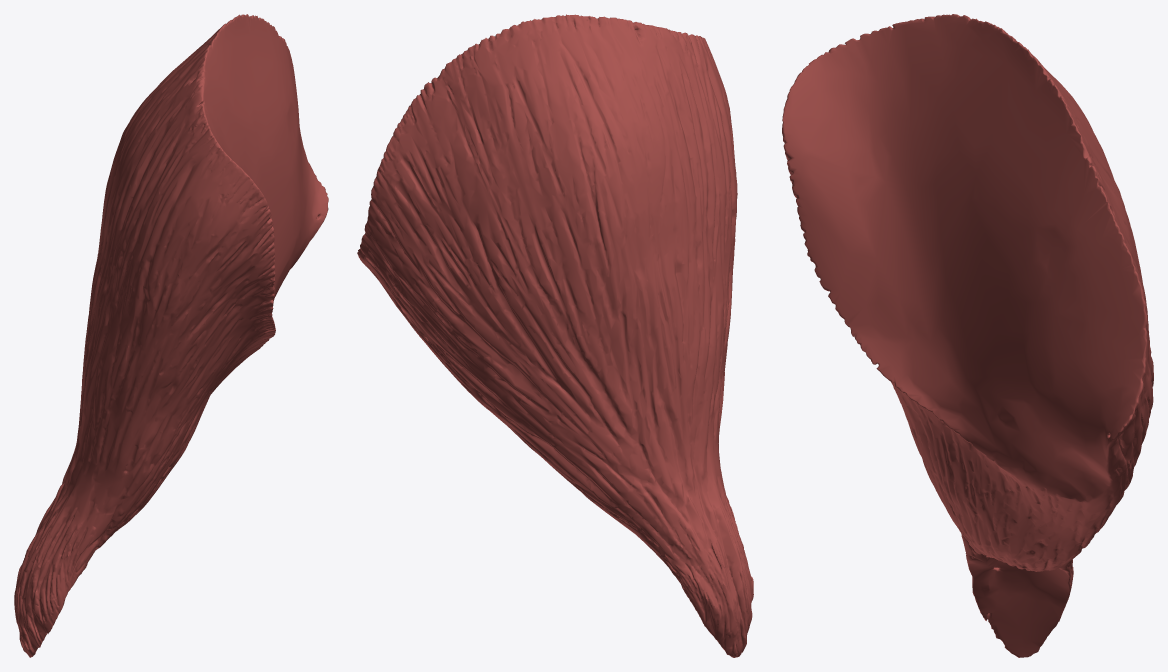
File: FMA22332.glb
3 views of the same model, side by side, from view 1: azimuth 30°, elevation 25°; view 2: azimuth 150°, elevation 25°; view 3: azimuth 270°, elevation 25° (orthographic). The views are drawn at different scales.
Visible parts, largest first — view 1: FMA22332; view 2: FMA22332; view 3: FMA22332.
Boxes of the visible parts, box(x1,y1,x2,y2) form: FMA22332: box(14, 14, 328, 657); FMA22332: box(357, 14, 753, 657); FMA22332: box(782, 14, 1153, 657).
Bounding box in the file's own units: 0.0802 × 0.1302 × 0.0589.
